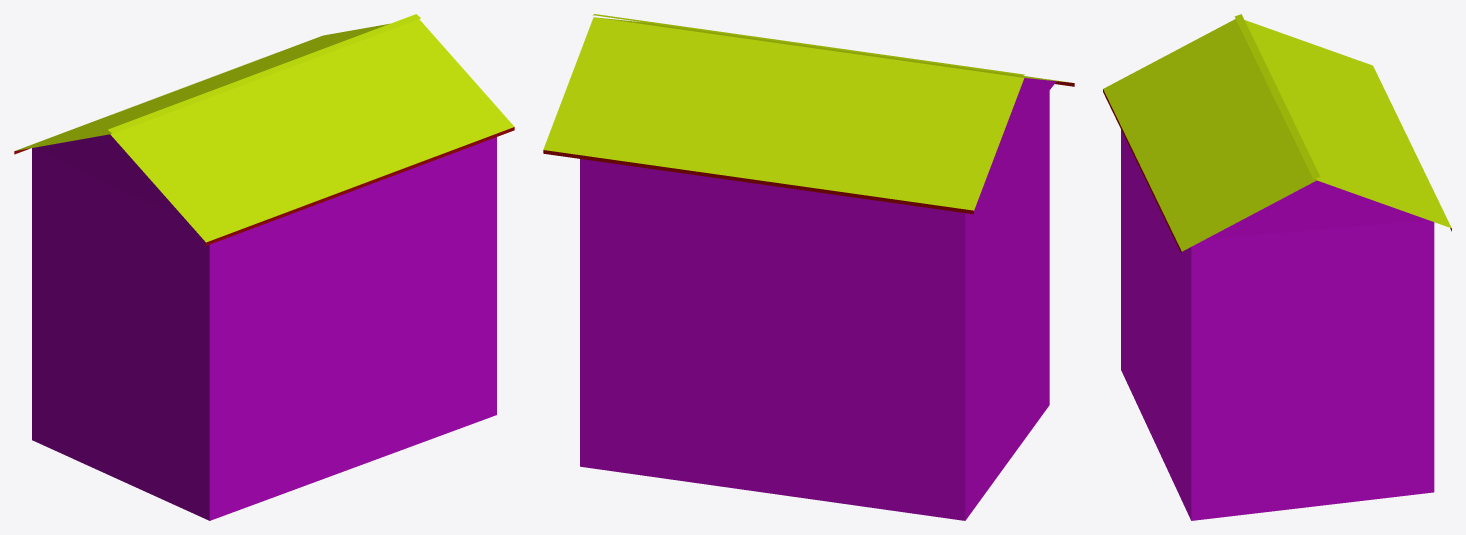
Rendered from scl_6.glb.
3 renders of one model, left to right at view 1: azimuth 30°, elevation 25°; view 2: azimuth 150°, elevation 25°; view 3: azimuth 270°, elevation 25°, orthographic. The views are drawn at different scales.
Visible parts, largest first — view 1: scl_6; view 2: scl_6; view 3: scl_6.
Part boxes in pixels (box(x1,y1,x2,y2)): scl_6: box(14, 14, 514, 520); scl_6: box(543, 14, 1074, 520); scl_6: box(1103, 14, 1451, 520).
Size of the model in its own units: 14.66 by 12.41 by 11.6.
